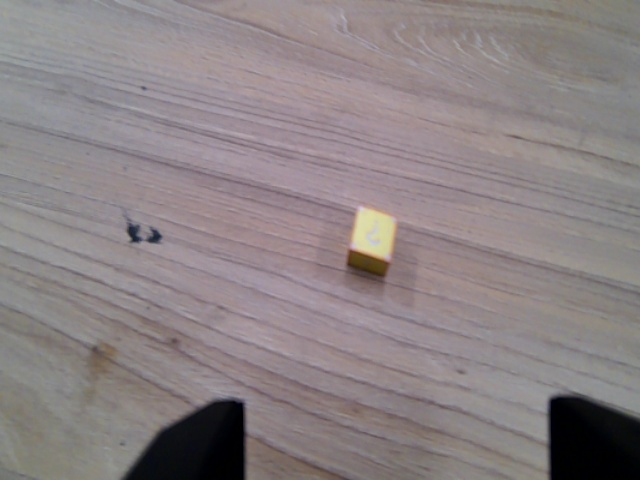lucky: (346, 205, 401, 278)
